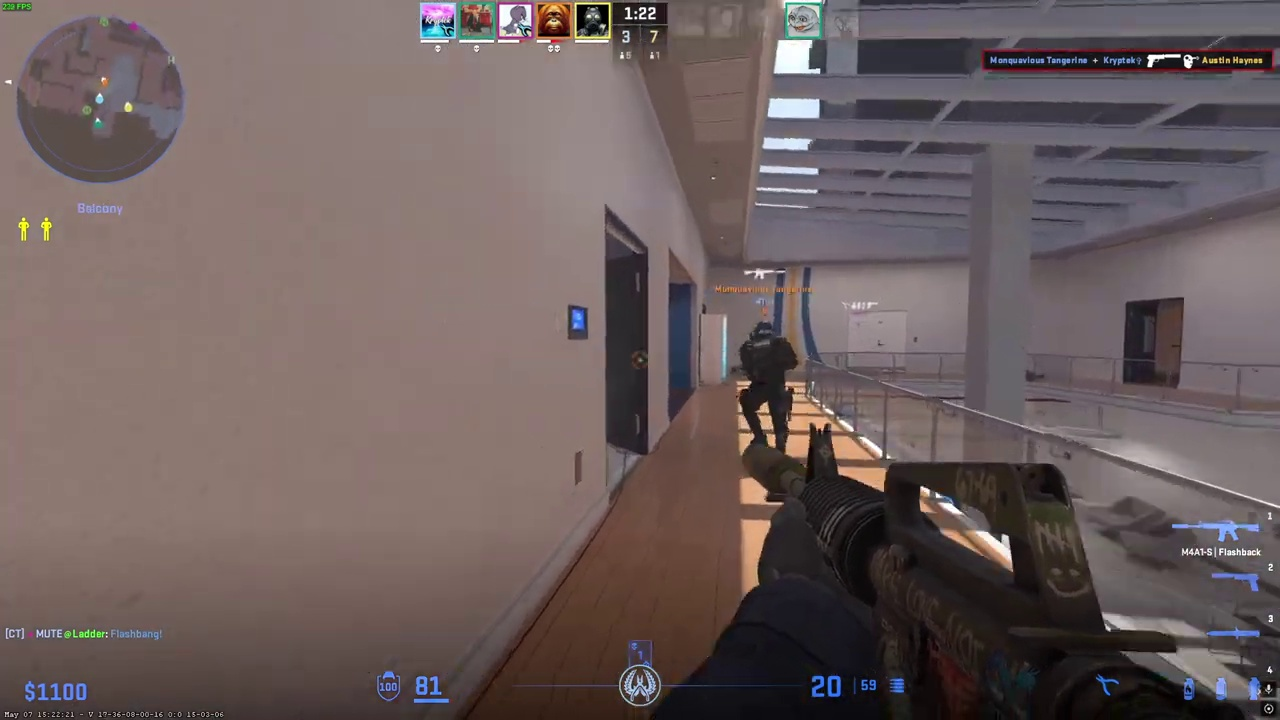CT: (737, 321, 793, 453)
